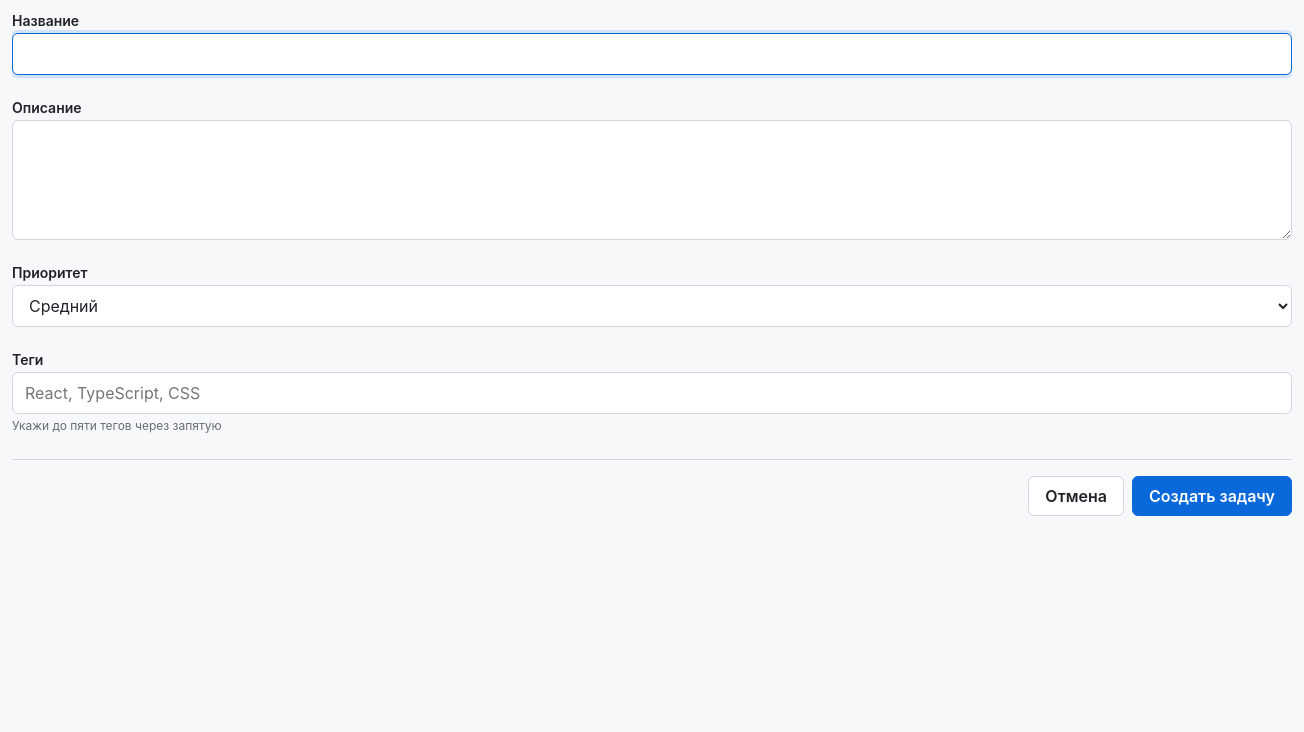
Test case: TaskForm › показывает ошибку для пустого названия
Step 1. Click the button "Создать задачу" → coordinates (1212, 496), box [1132,476,1292,516]
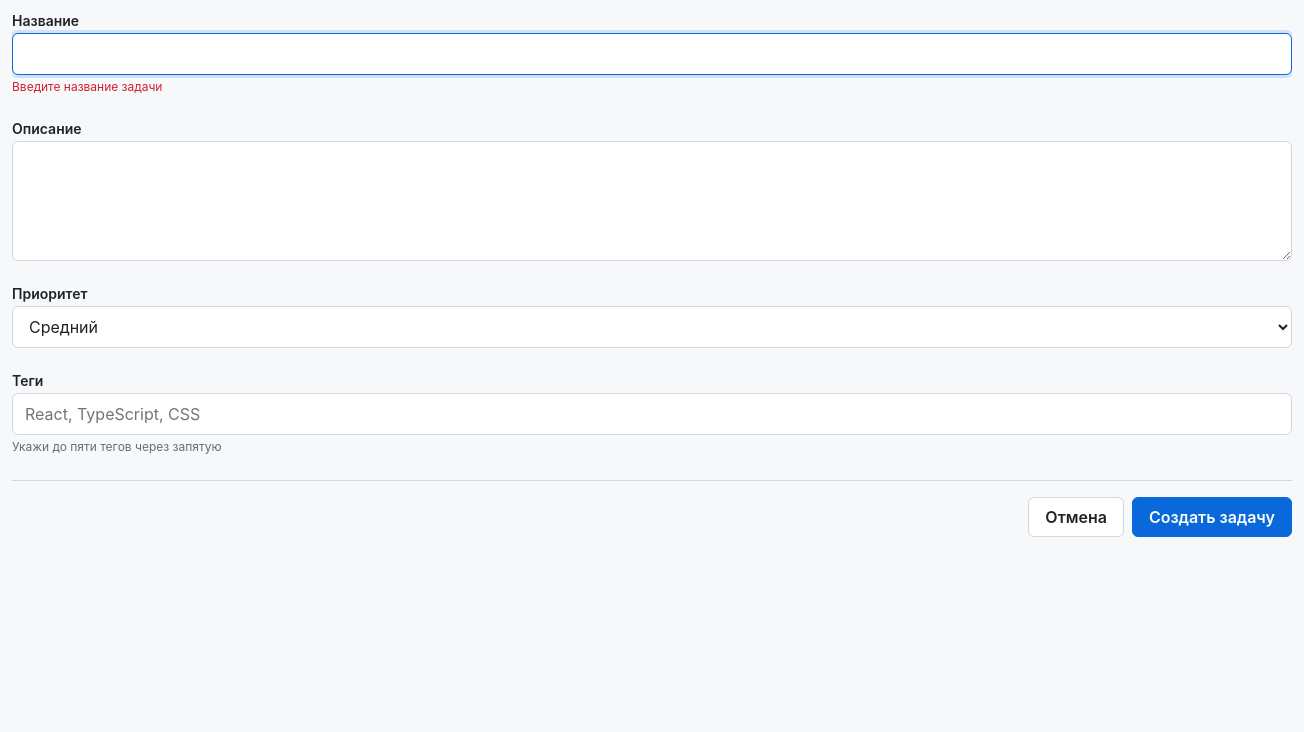
Expected: the message reads "Введите название задачи", [12,79,162,94]
